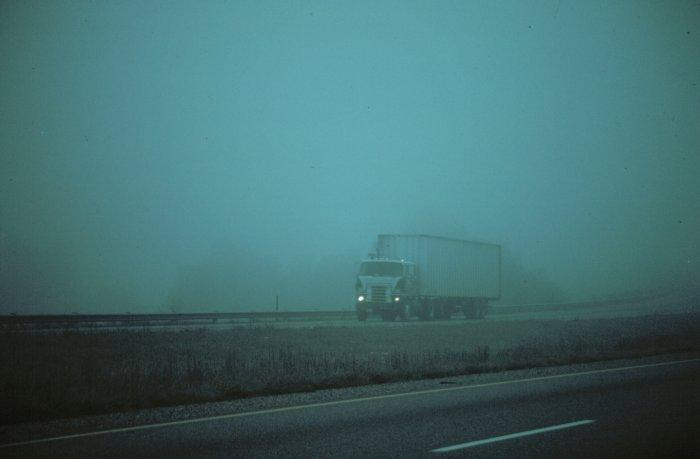bus: (355, 231, 503, 326)
